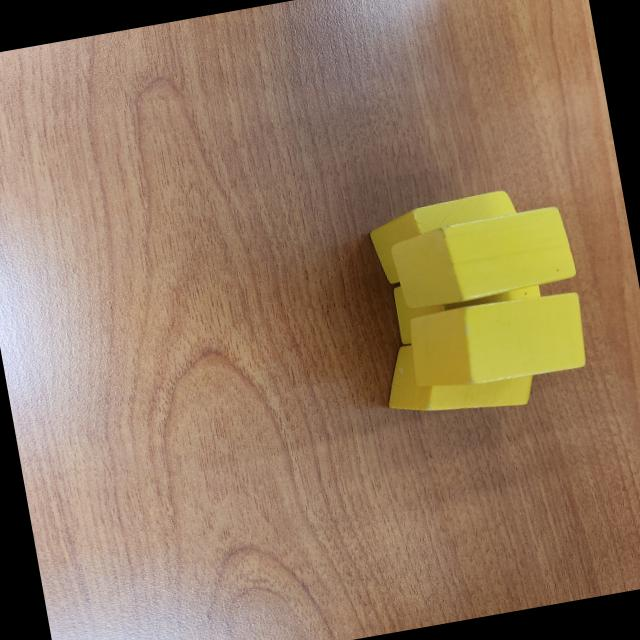yellow: (401, 286, 594, 396), (386, 204, 578, 312), (378, 322, 538, 429), (366, 187, 528, 287), (388, 262, 546, 346)
